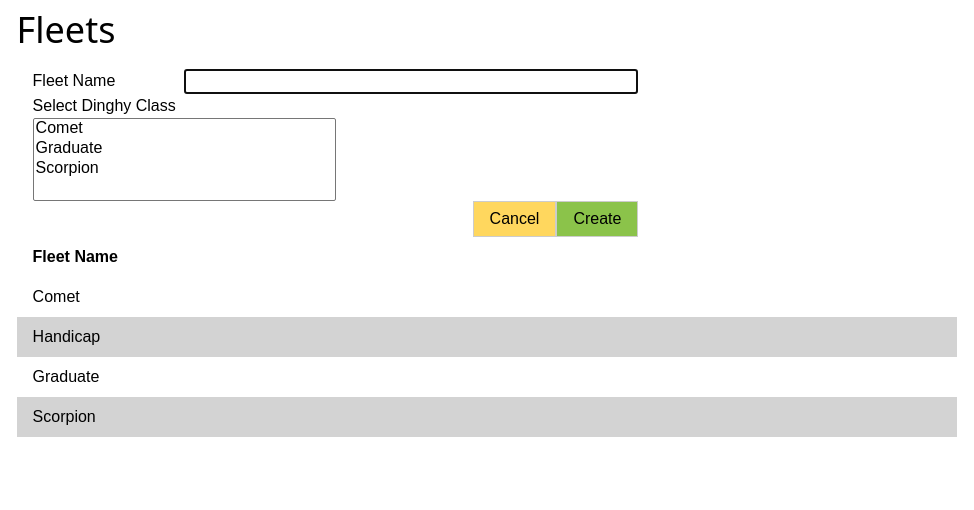
Test: when a fleet is selected › clears any error message
Click the cell "Scorpion" at (64, 417), box [17,397,957,437]
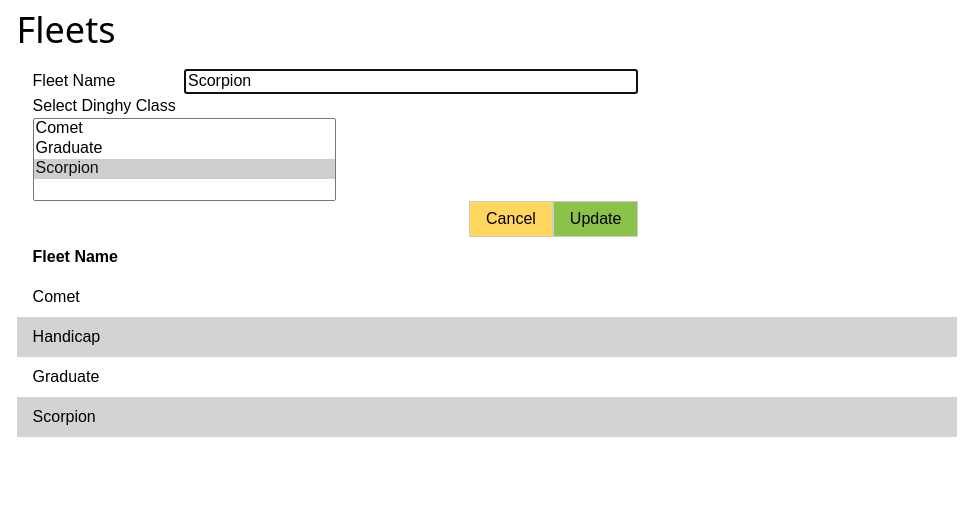
Replace the text in the field labelled "Fleet Name" with "Scorp Pro" at (411, 82), box [184,69,638,94]
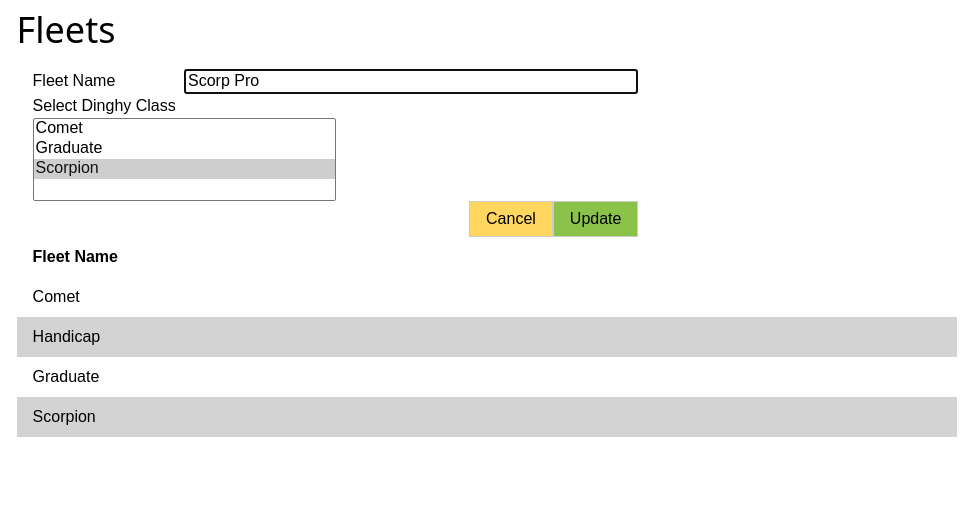
Click the button "Update" at (596, 219), box [553,200,638,237]
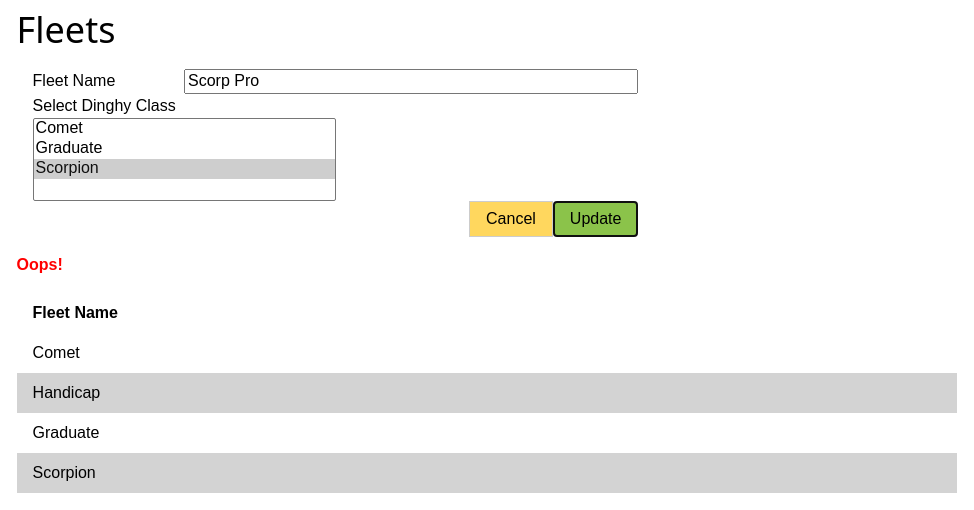
Check: the text "Oops!" is shown, box [17,256,63,273]
Click the cell "Scorpion" at (64, 473), box [17,453,957,493]
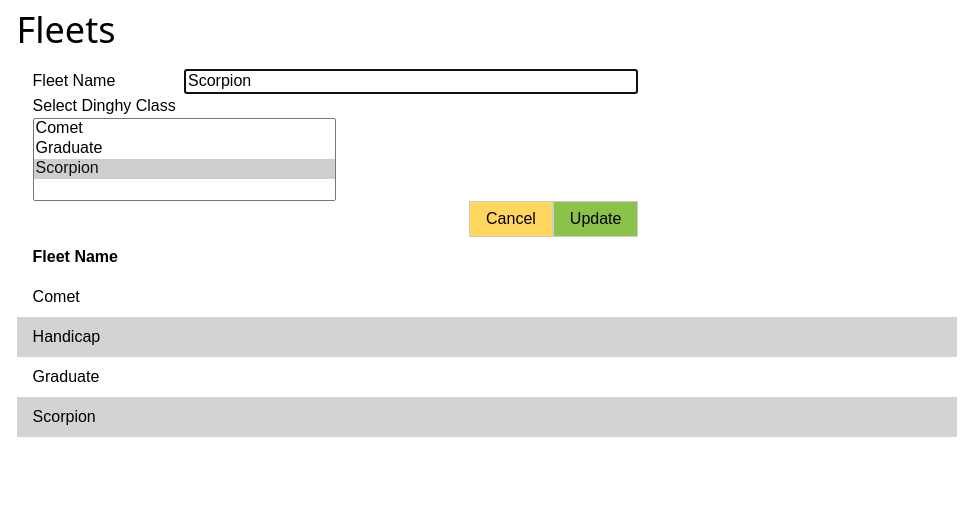
Check: the text "Oops" is gone
